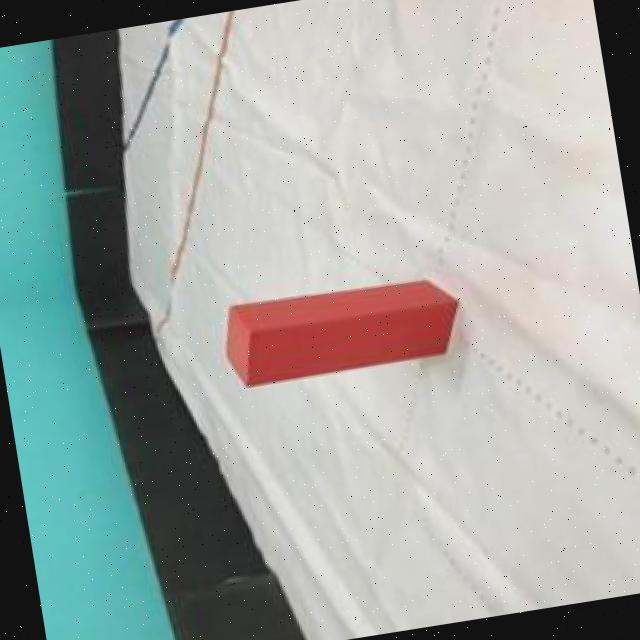redbox: (218, 268, 467, 388)
